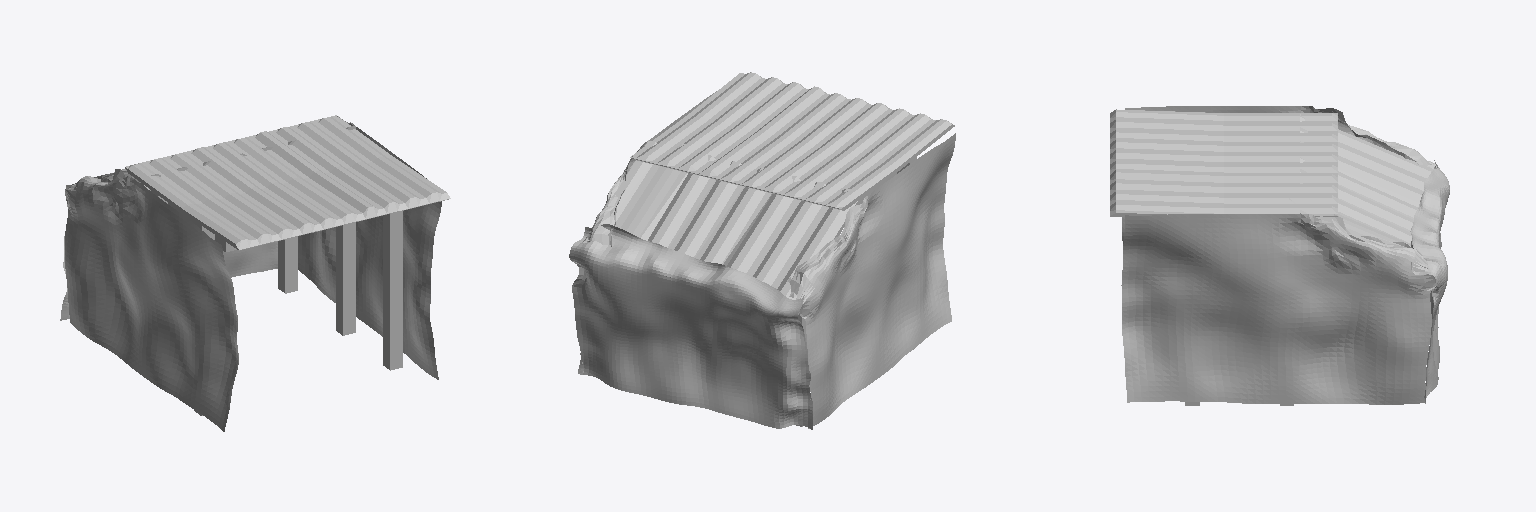
File: MiniGalpão.obj
The picture shows the model from 3 angles: view 1: azimuth 30°, elevation 25°; view 2: azimuth 150°, elevation 25°; view 3: azimuth 270°, elevation 25°; orthographic projection.
Parts seen in each view (by area): view 1: pPlane1, pCube2, pasted__pCube1 group, pasted__pasted__pCube1 pasted__group group1, pPlane2, pasted__pasted__pasted__pasted__pasted__pCube1 pasted__pasted__p; view 2: pPlane2, pPlane1, pCube2, pasted__pCube2 group11; view 3: pPlane1, pCube2, pasted__pCube2 group11, pPlane2.
Boxes of the visible parts, <box> form: pPlane1: <box>65,116,441,431</box>; pCube2: <box>125,115,450,250</box>; pasted__pCube1 group: <box>383,211,402,370</box>; pasted__pasted__pCube1 pasted__group group1: <box>336,222,355,335</box>; pPlane2: <box>60,169,277,320</box>; pasted__pasted__pasted__pasted__pasted__pCube1 pasted__pasted__p: <box>278,236,297,293</box>; pPlane2: <box>569,224,812,429</box>; pPlane1: <box>582,91,955,428</box>; pCube2: <box>630,72,954,210</box>; pasted__pCube2 group11: <box>584,140,860,299</box>; pPlane1: <box>1121,106,1436,404</box>; pCube2: <box>1110,109,1337,216</box>; pasted__pCube2 group11: <box>1289,114,1433,268</box>; pPlane2: <box>1410,160,1449,403</box>.
Size of the model in its own units: 18.9 by 15.12 by 23.09.